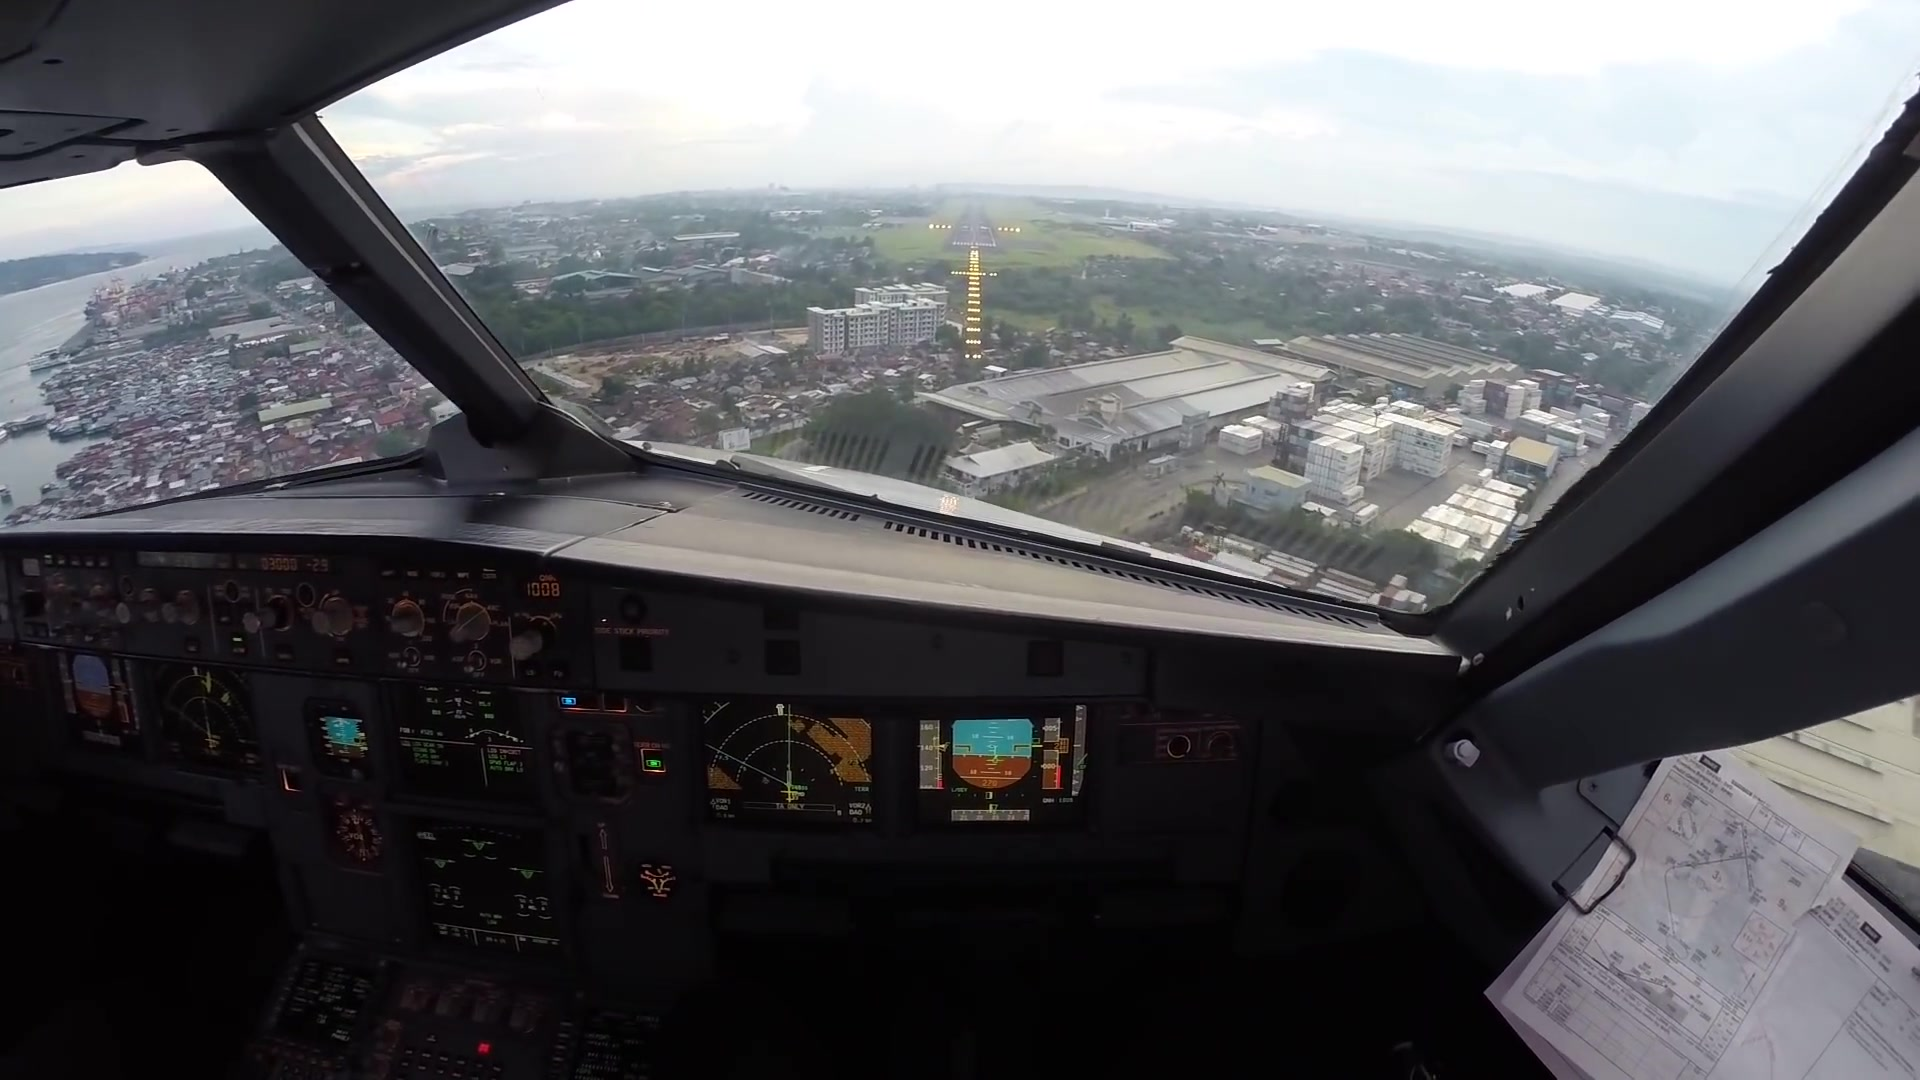entrance: (953, 237, 993, 248)
runway: (947, 200, 997, 252)
